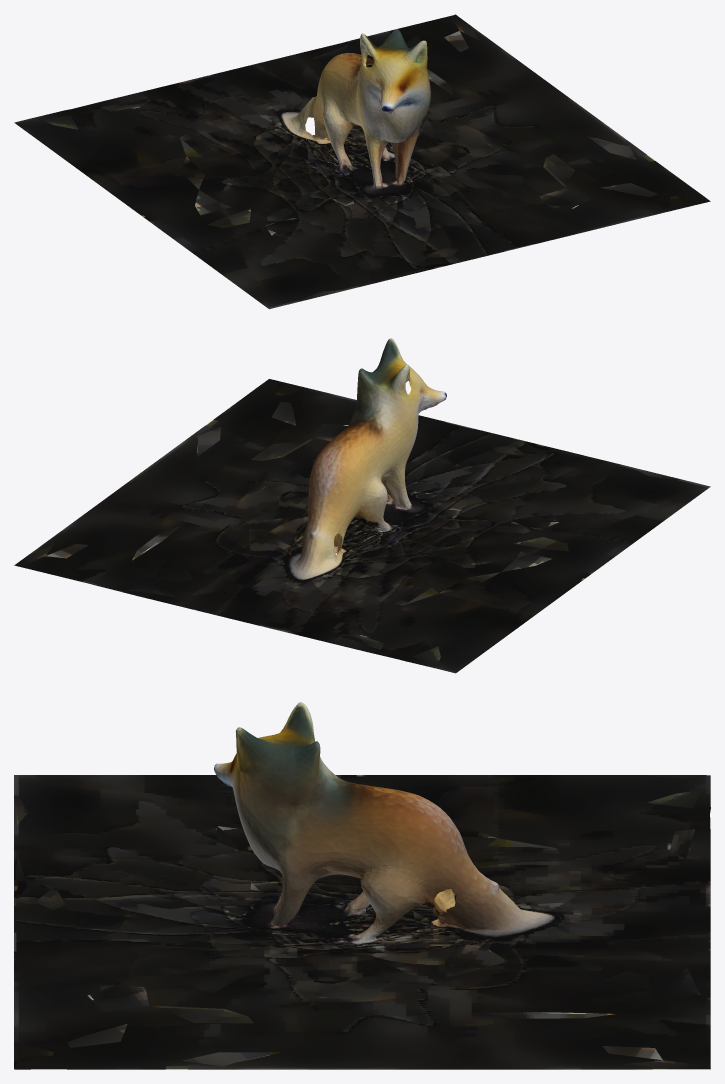
Rendered from trellis_result.glb.
The picture shows the model from 3 angles, top to bottom: view 1: azimuth 30°, elevation 25°; view 2: azimuth 150°, elevation 25°; view 3: azimuth 270°, elevation 25°; orthographic projection. The views are drawn at different scales.
Visible parts, largest first — view 1: world; view 2: world; view 3: world.
Boxes of the visible parts, x1,y1,x2,y2 form: world: (14,14,710,309); world: (14,338,710,673); world: (14,702,710,1069).
Bounding box in the file's own units: 1 × 0.3323 × 1.
1 material, 1 textured.
